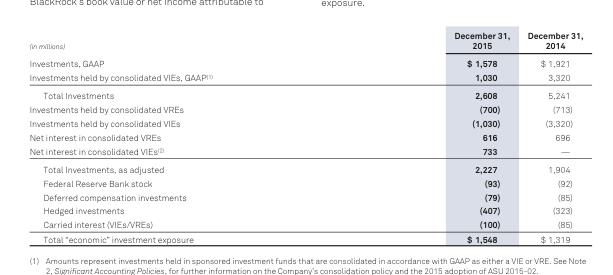table: (28, 29, 582, 244)
table column: (28, 29, 332, 244), (332, 29, 517, 244), (517, 29, 582, 244)
table column header: (28, 29, 582, 54)
table row: (28, 29, 582, 54), (28, 54, 582, 70), (28, 70, 582, 86), (28, 86, 582, 102), (28, 143, 582, 159), (28, 159, 582, 175), (28, 102, 582, 116), (28, 116, 582, 130), (28, 175, 582, 189), (28, 189, 582, 203), (28, 203, 582, 217), (28, 217, 582, 231), (28, 130, 582, 143), (28, 231, 582, 244)
